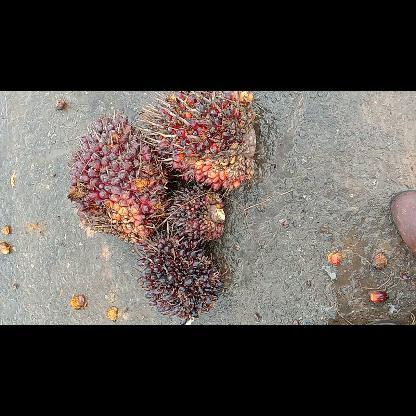TBS abnormal: (130, 229, 226, 317), (162, 183, 228, 247)
TBS masak: (64, 113, 168, 246), (134, 92, 260, 192)
